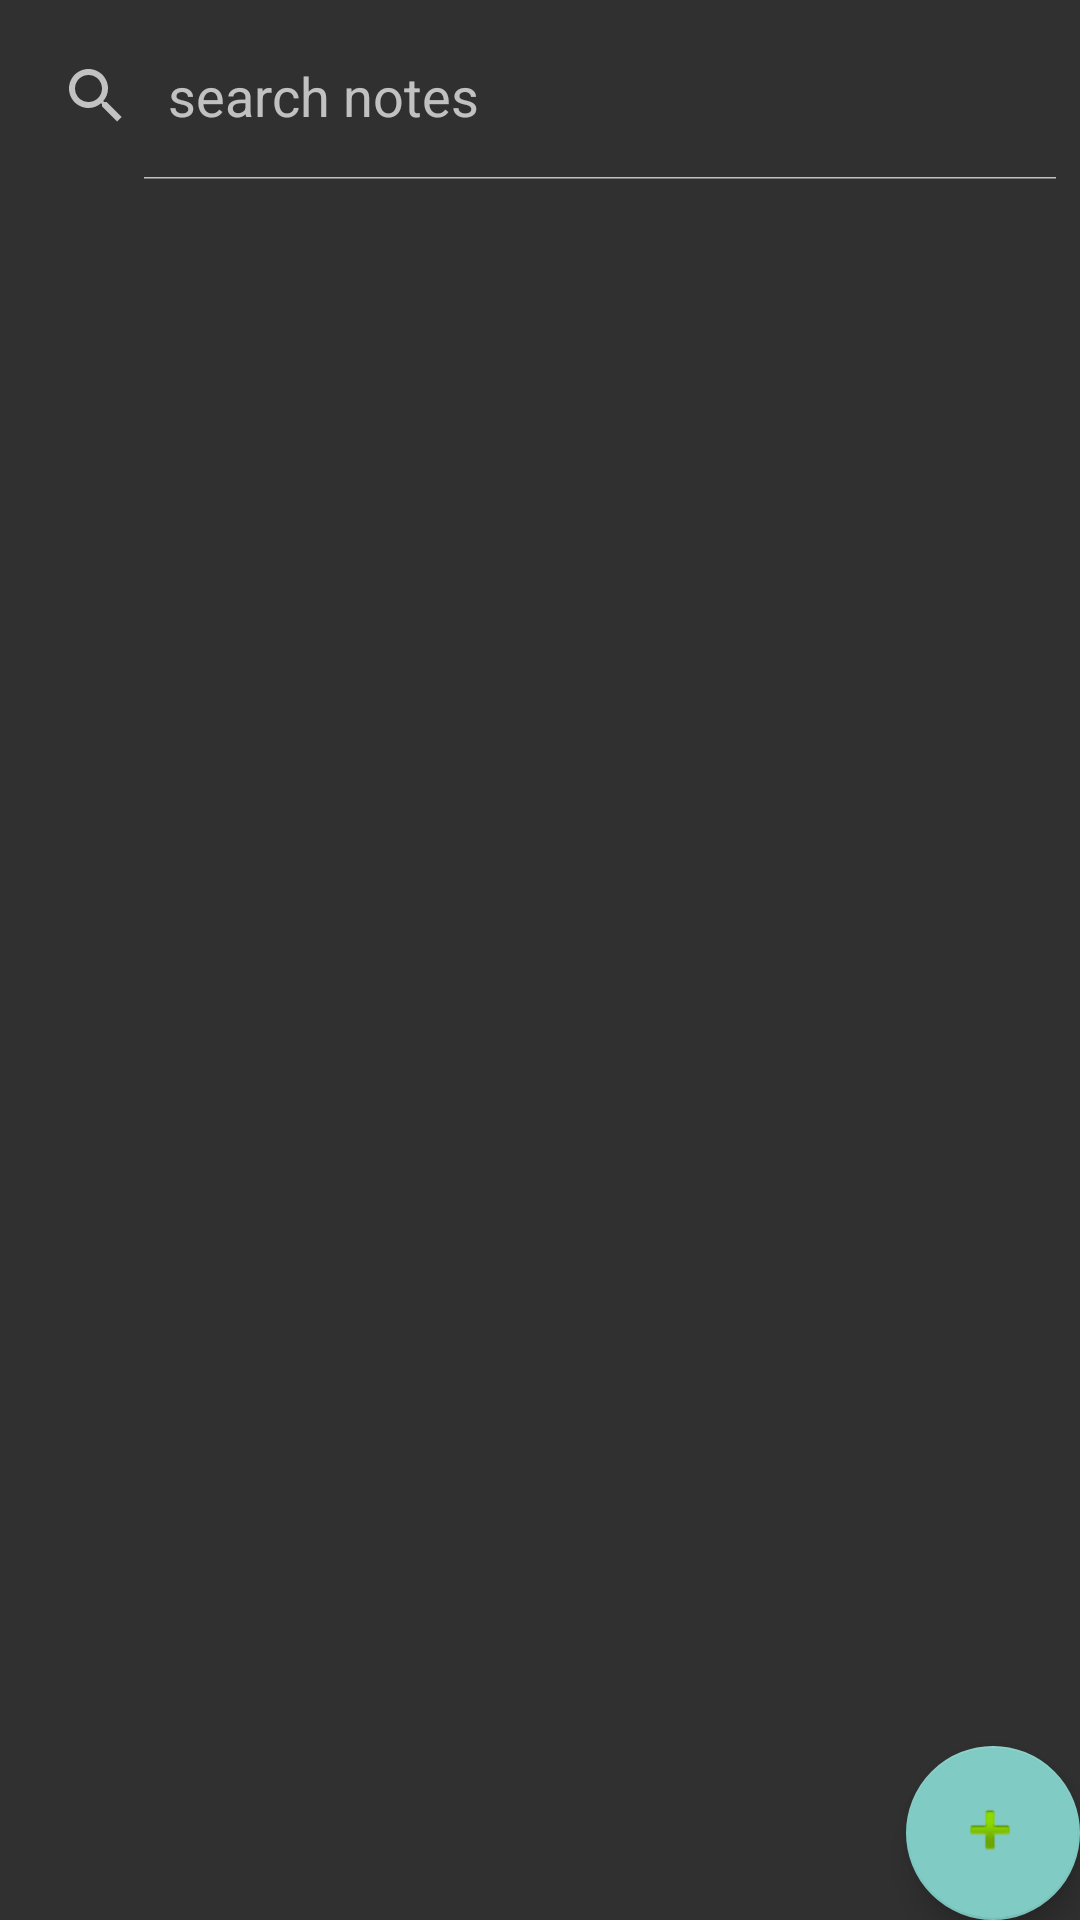

Where icons sit on this 1080×1920 app screen, as rect(x1, y1, x2, y2):
add: rect(906, 1746, 1080, 1920)
